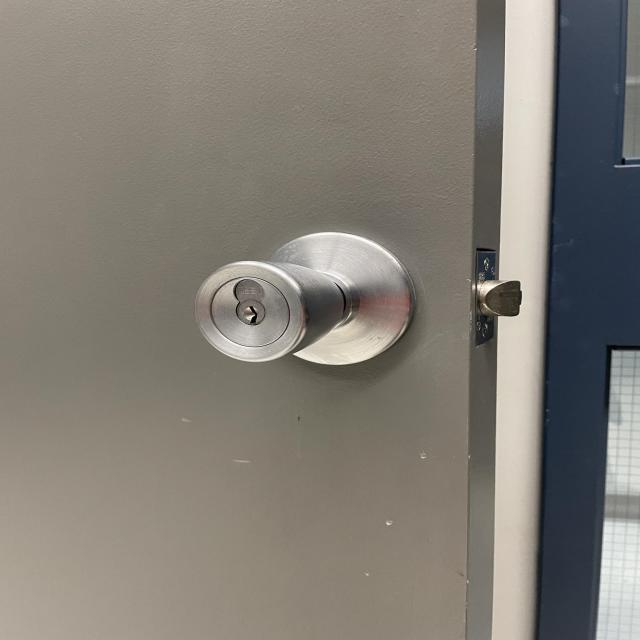door-knob: (195, 232, 415, 365)
